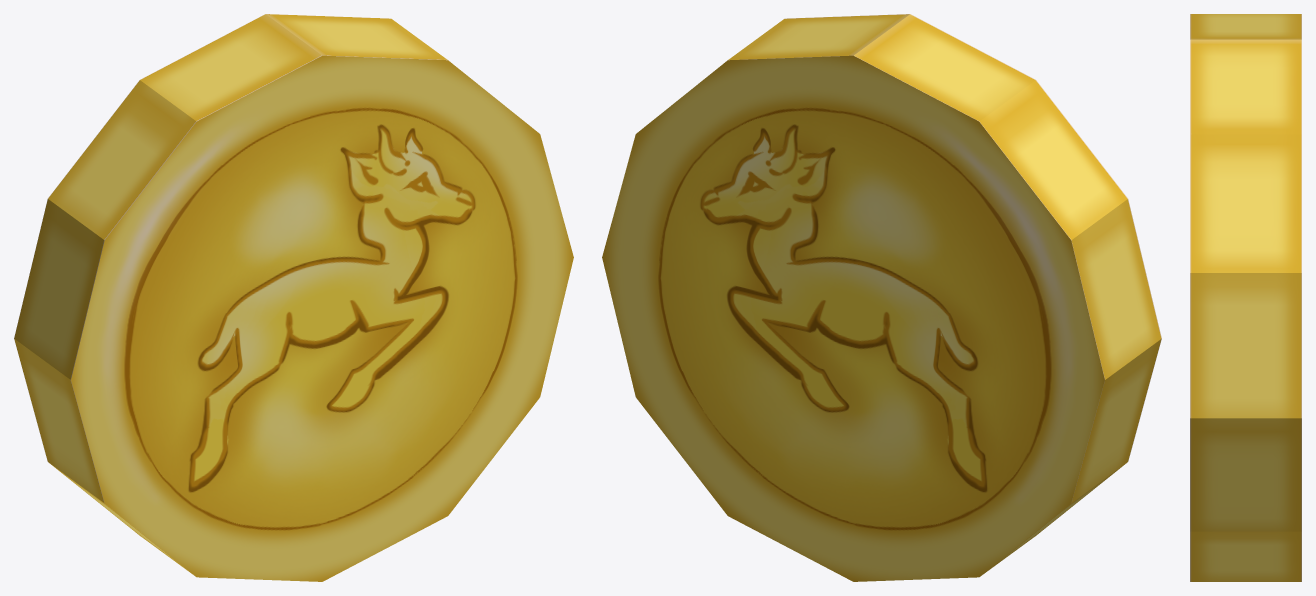
The model's file is Coin.fbx.
The picture shows the model from 3 angles, left to right: view 1: azimuth 30°, elevation 25°; view 2: azimuth 150°, elevation 25°; view 3: azimuth 270°, elevation 25°; orthographic projection.
Parts seen in each view (by area): view 1: Coin; view 2: Coin; view 3: Coin.
Boxes of the visible parts, x1=… form: Coin: x1=14, y1=14, x2=573, y2=581; Coin: x1=602, y1=14, x2=1161, y2=581; Coin: x1=1190, y1=14, x2=1301, y2=581.
Size of the model in its own units: 200 by 200 by 39.21.
